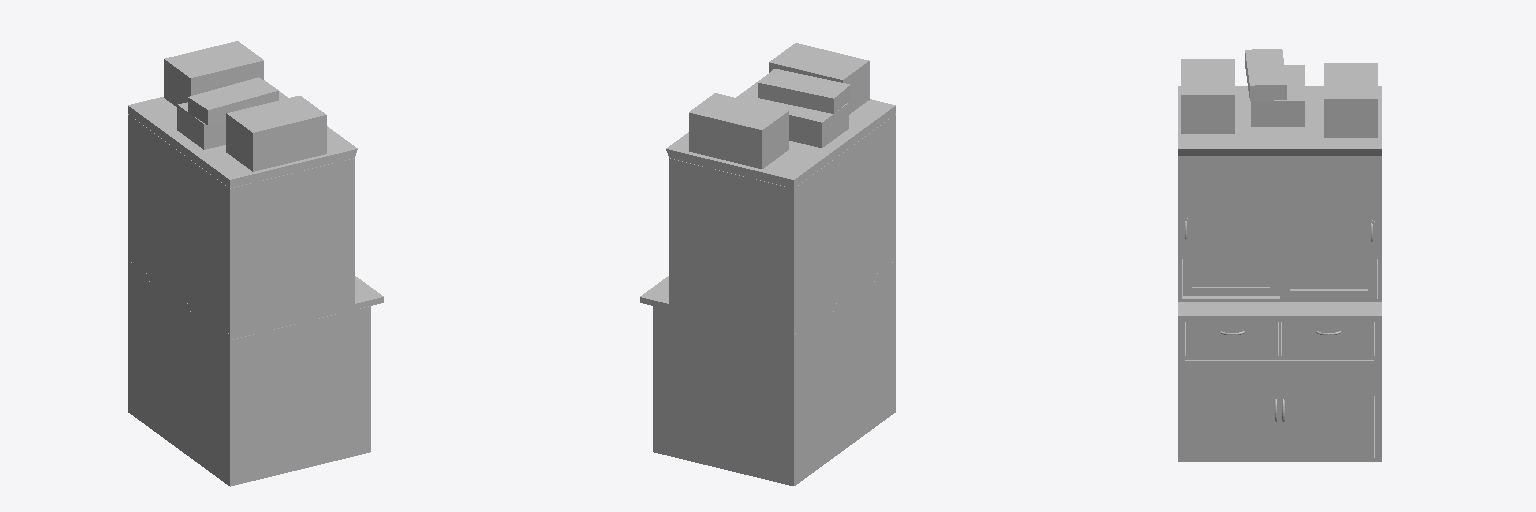
Rendered from Alacen.obj.
3 views of the same model, side by side, from view 1: azimuth 30°, elevation 25°; view 2: azimuth 150°, elevation 25°; view 3: azimuth 270°, elevation 25° (orthographic).
Visible parts, largest first — view 1: Alacen:polySurface54polySurface46; view 2: Alacen:polySurface54polySurface46; view 3: Alacen:polySurface54polySurface46.
Boxes of the visible parts, <box> form: Alacen:polySurface54polySurface46: <box>128,41,383,486</box>; Alacen:polySurface54polySurface46: <box>640,43,895,485</box>; Alacen:polySurface54polySurface46: <box>1178,49,1381,461</box>.
Size of the model in its own units: 7.83 by 16.92 by 8.98.